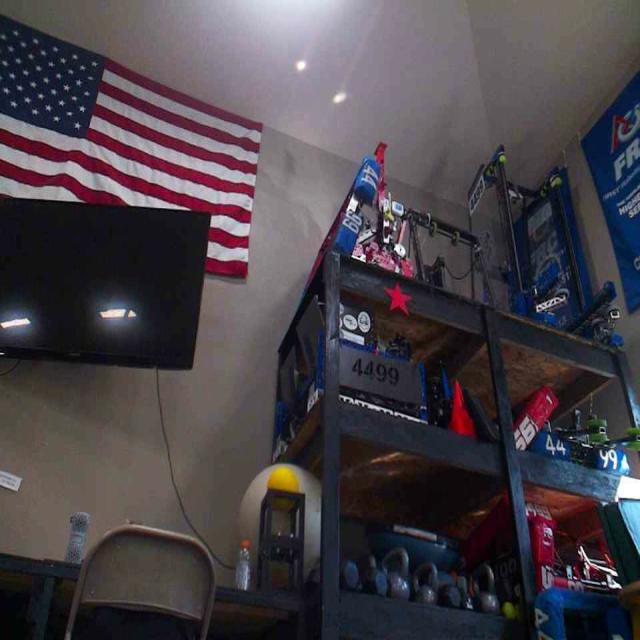star_red: (383, 280, 413, 315)
